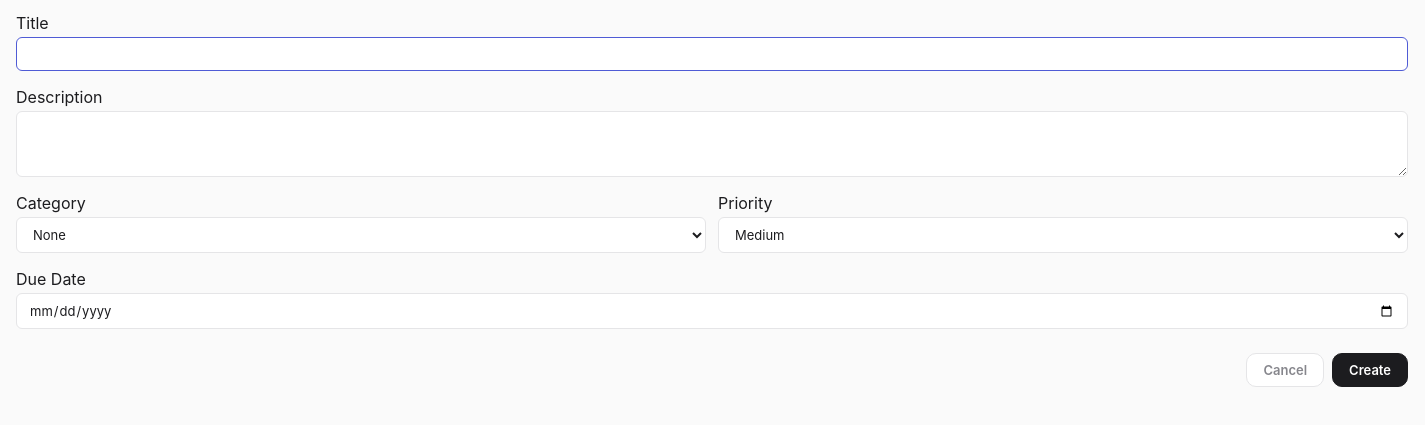
Test: TodoForm › shows a validation error and does not submit when title is blank
Click the button "Create": (1370, 370) x1=1332 y1=353 x2=1408 y2=387
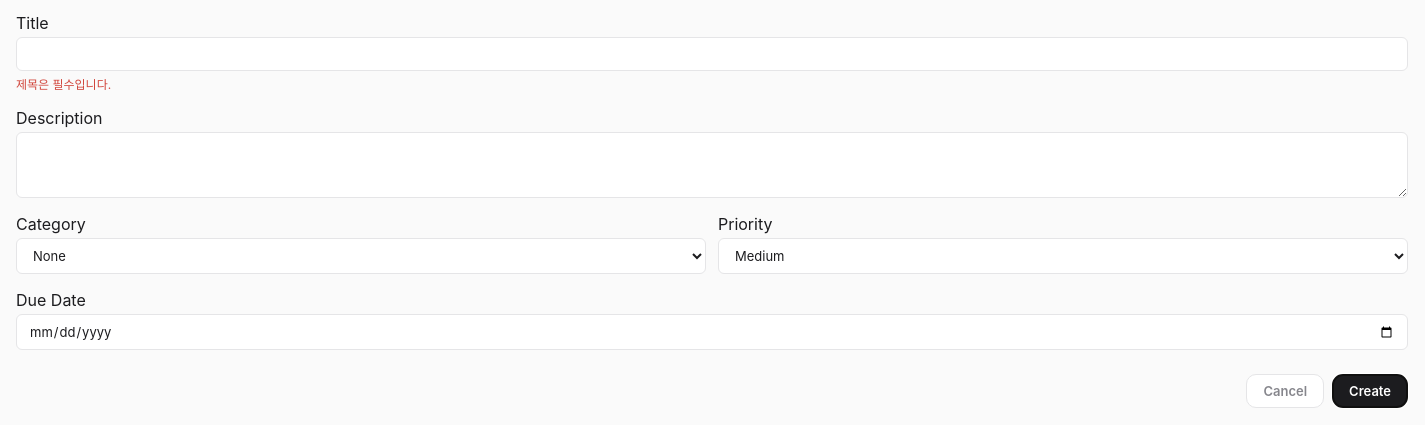
expect the text "제목은 필수입니다." is shown: met, box x1=16 y1=77 x2=111 y2=92
